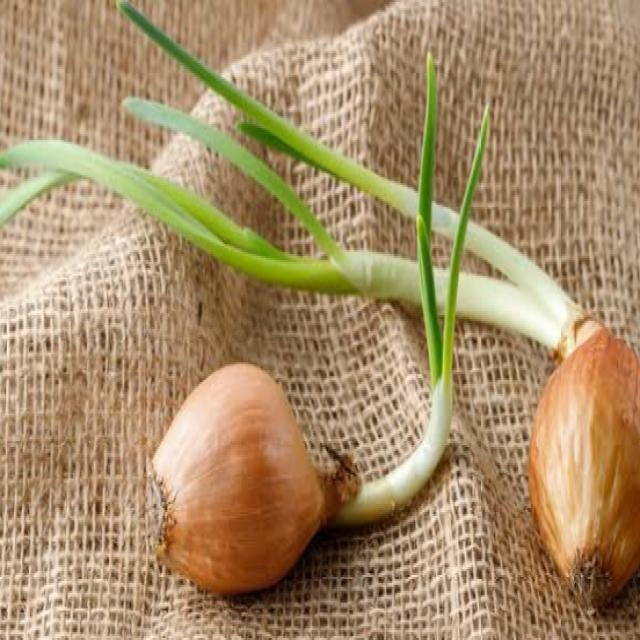rotten: (144, 356, 523, 433)
